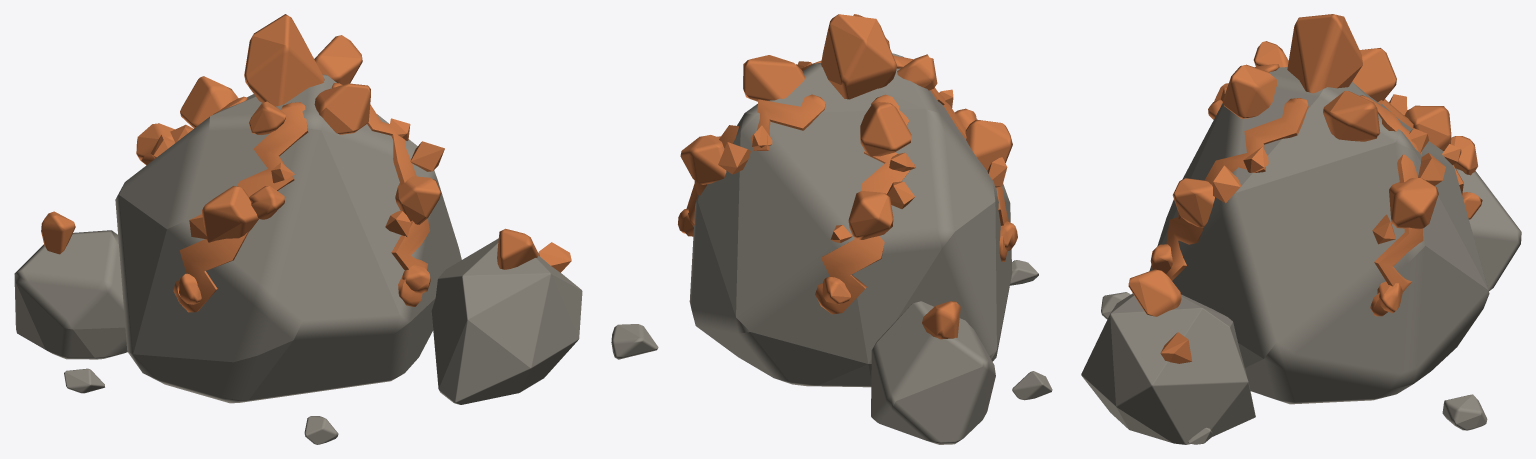
The model's file is node_ore_copper.glb.
3 renders of one model, left to right at view 1: azimuth 30°, elevation 25°; view 2: azimuth 150°, elevation 25°; view 3: azimuth 270°, elevation 25°, orthographic. The views are drawn at different scales.
Visible parts, largest first — view 1: Rock, Harvest; view 2: Rock, Harvest; view 3: Rock, Harvest.
Part boxes in pixels (bbox=[...]): Rock: bbox=[14, 74, 582, 444]; Harvest: bbox=[41, 14, 571, 312]; Rock: bbox=[611, 53, 1052, 444]; Harvest: bbox=[678, 14, 1017, 339]; Rock: bbox=[1081, 67, 1521, 444]; Harvest: bbox=[1128, 14, 1482, 363].
Size of what is drawn, in the model's own units: 1.58 by 1.17 by 1.39.
